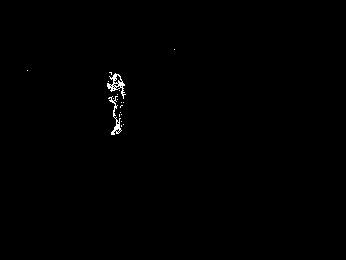person: (104, 69, 127, 138)
